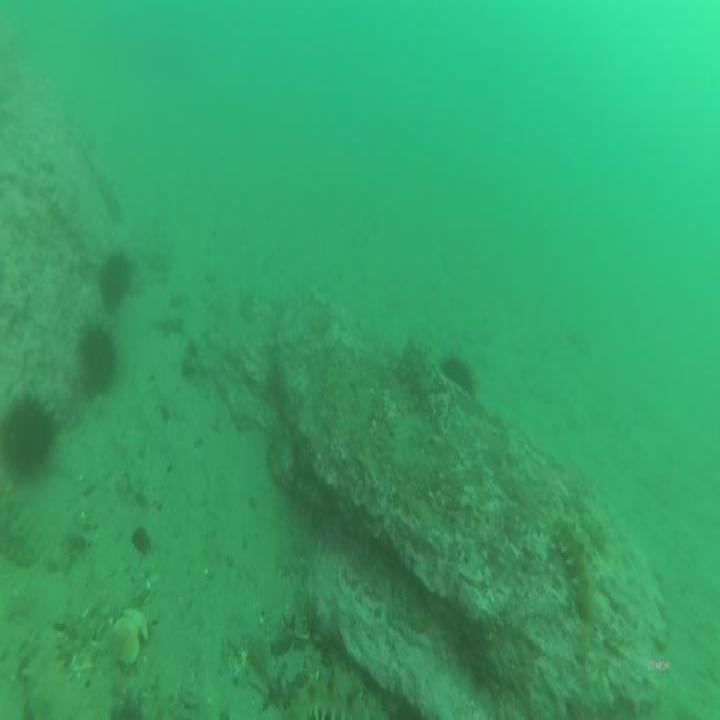echinus: (0, 391, 53, 482), (73, 322, 123, 398), (94, 250, 135, 316), (439, 351, 481, 406)
holothurian: (549, 510, 601, 631), (394, 332, 460, 422), (279, 665, 373, 720), (0, 480, 45, 572)
scallop: (106, 606, 141, 670)
